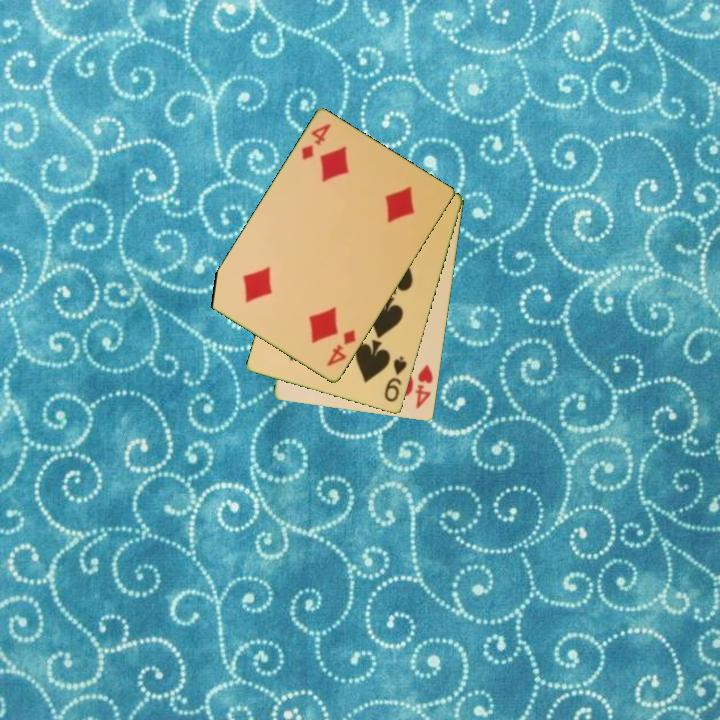4d: (323, 326, 359, 370), (298, 120, 334, 164)
4h: (412, 361, 436, 412)
9s: (381, 353, 410, 405)
